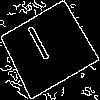I: (24, 24, 57, 71)
